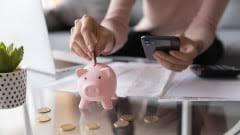1: (69, 15, 116, 63)
Hand: (153, 45, 199, 78)
Smartphone: (139, 37, 184, 63)
